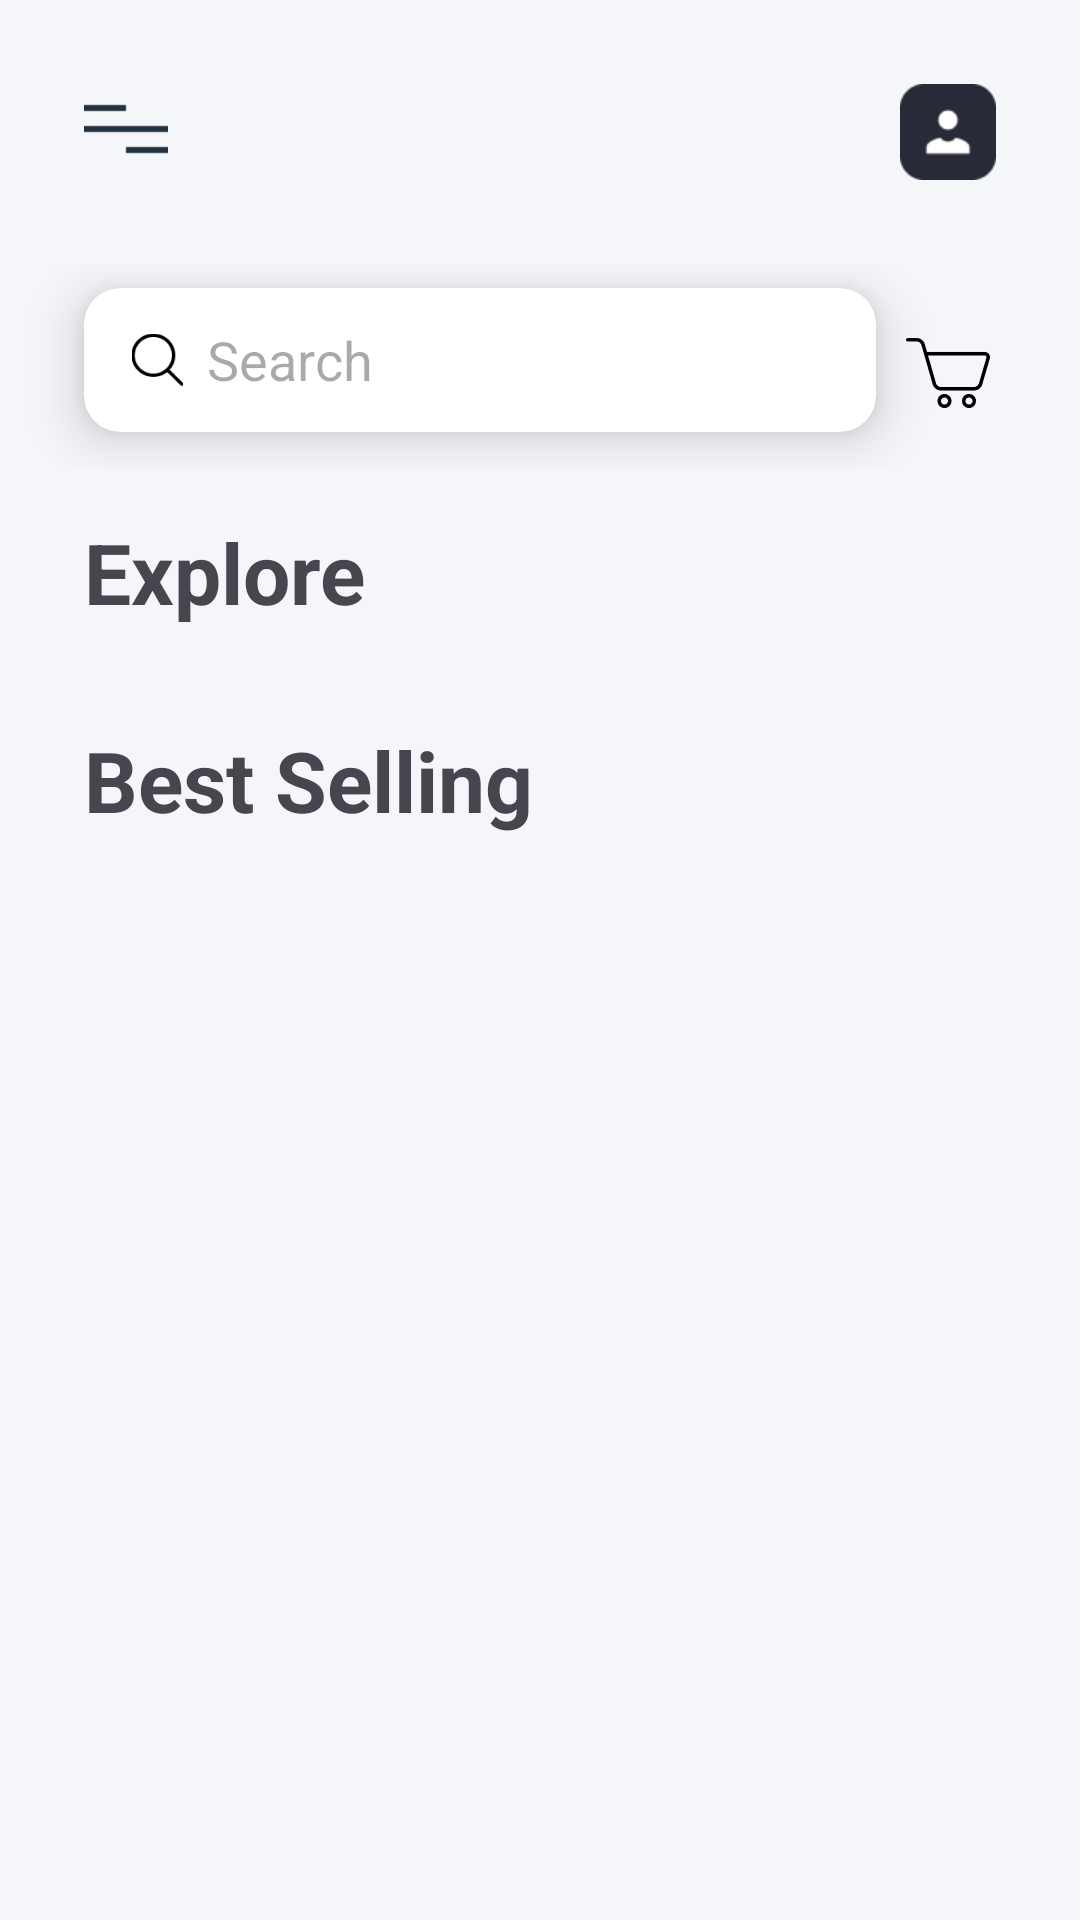

Locate icon controls on the screen. Image size 1080 x 1920, boxes as bbox=[x1, y1, x2, y2].
drawer: bbox=[84, 104, 168, 154]
trolley: bbox=[906, 338, 990, 408]
user main: bbox=[900, 84, 996, 180]
